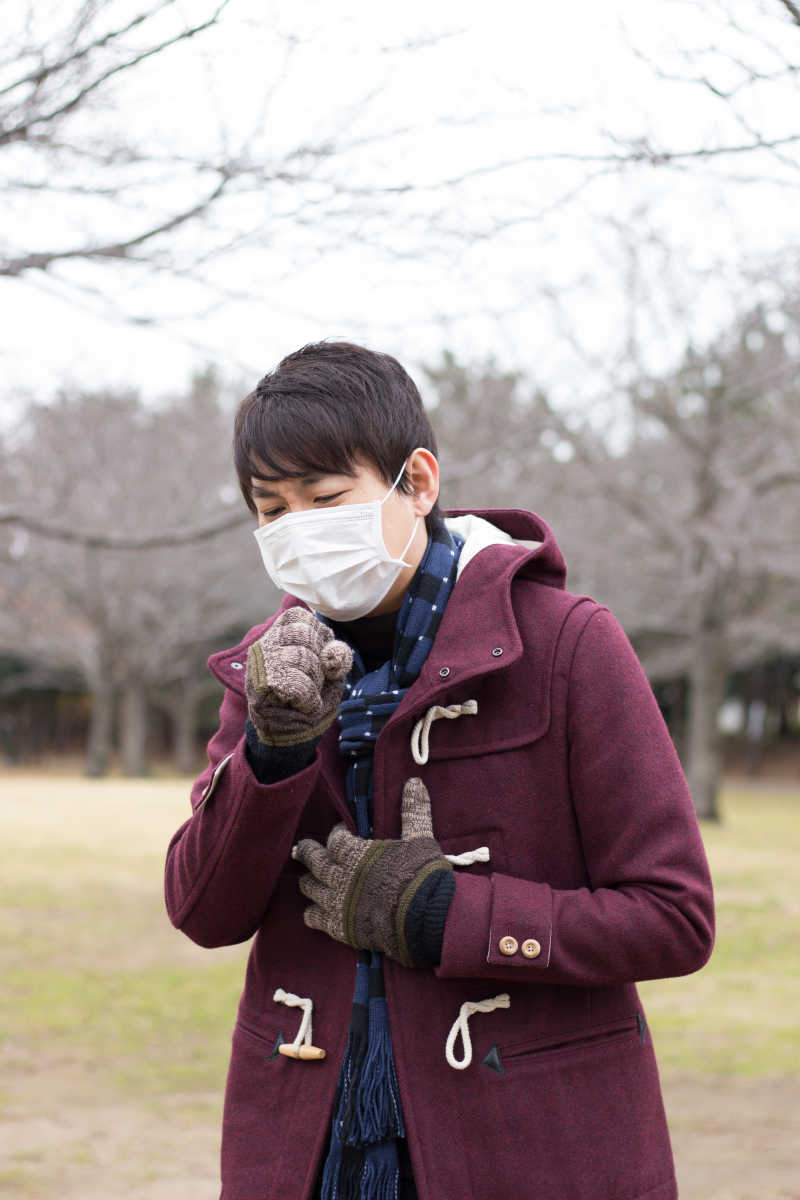mask: (234, 468, 454, 635)
